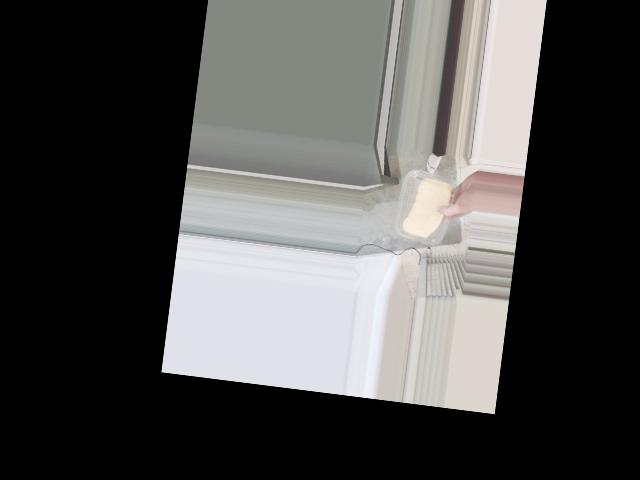cheese: (398, 169, 457, 245)
